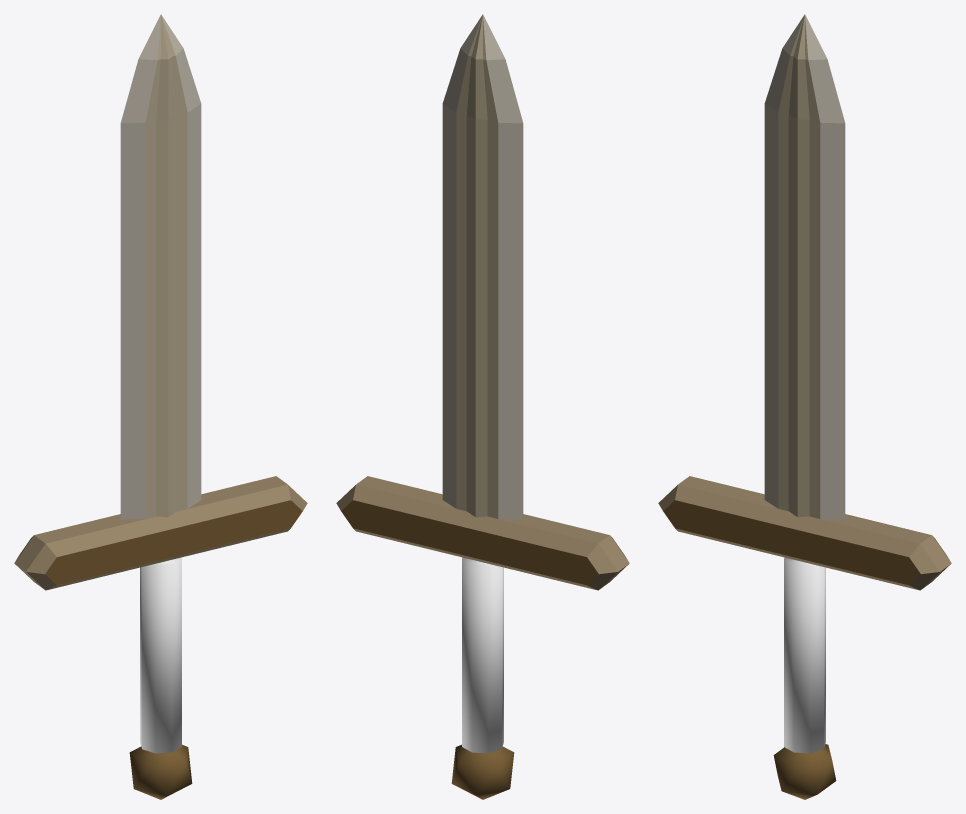
Rendered from broken_hero_sword.glb.
3 views of the same model, side by side, from view 1: azimuth 30°, elevation 25°; view 2: azimuth 150°, elevation 25°; view 3: azimuth 330°, elevation 25° (orthographic).
Parts seen in each view (by area): view 1: broken_hero_sword_v0; view 2: broken_hero_sword_v0; view 3: broken_hero_sword_v0.
Boxes of the visible parts, x1,y1,x2,y2 form: broken_hero_sword_v0: [14, 14, 307, 799]; broken_hero_sword_v0: [336, 14, 629, 799]; broken_hero_sword_v0: [658, 14, 951, 799].
Bounding box in the file's own units: 0.314 × 0.837 × 0.0578.
